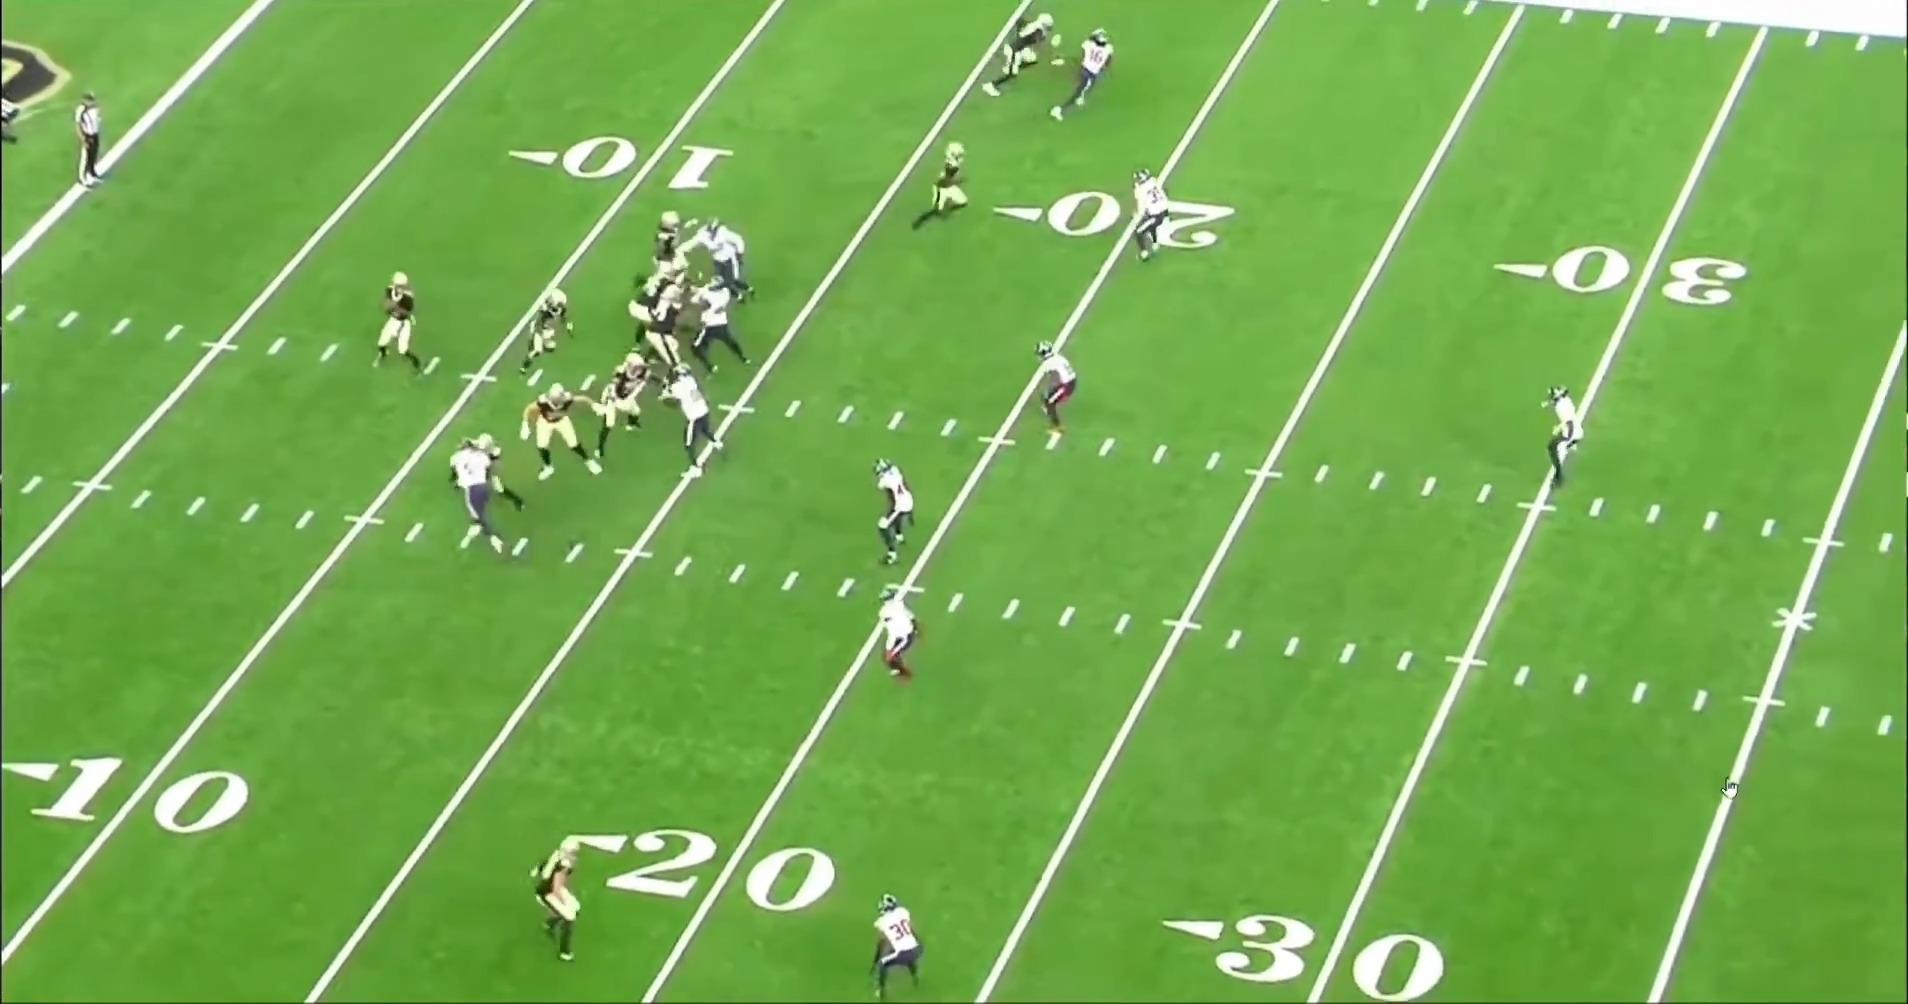defense: (444, 434, 509, 561), (673, 371, 739, 484), (686, 277, 755, 380), (866, 893, 927, 1001), (1050, 23, 1116, 124), (1028, 337, 1083, 447), (866, 455, 914, 571), (1537, 381, 1586, 491), (867, 583, 919, 686), (707, 214, 763, 304), (1129, 161, 1176, 265)
oline: (517, 377, 599, 484), (589, 353, 656, 459), (641, 288, 695, 396), (649, 207, 698, 285), (637, 254, 685, 324)
qb: (375, 267, 434, 383)
ref: (79, 86, 120, 194)
skill: (534, 831, 598, 967), (979, 8, 1061, 103), (450, 433, 530, 517), (910, 134, 975, 231), (517, 288, 583, 382)
